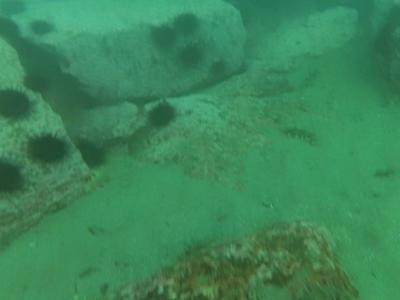holothurian: (185, 233, 259, 268), (281, 124, 320, 147), (84, 172, 107, 192)
urchin: (22, 133, 67, 166), (2, 156, 29, 198), (76, 137, 105, 167), (146, 100, 177, 128), (4, 88, 29, 119), (173, 13, 199, 39), (179, 46, 203, 66), (154, 29, 174, 50), (3, 18, 22, 39), (23, 74, 43, 92), (32, 22, 53, 34), (211, 62, 223, 74)
